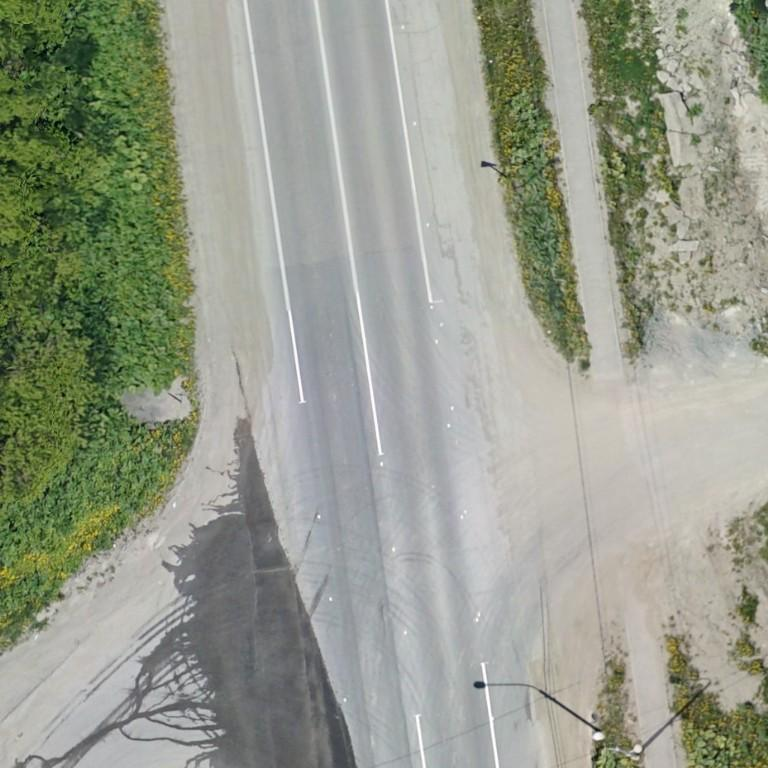hogweed: (39, 0, 176, 387), (0, 448, 161, 565), (0, 576, 47, 619)
